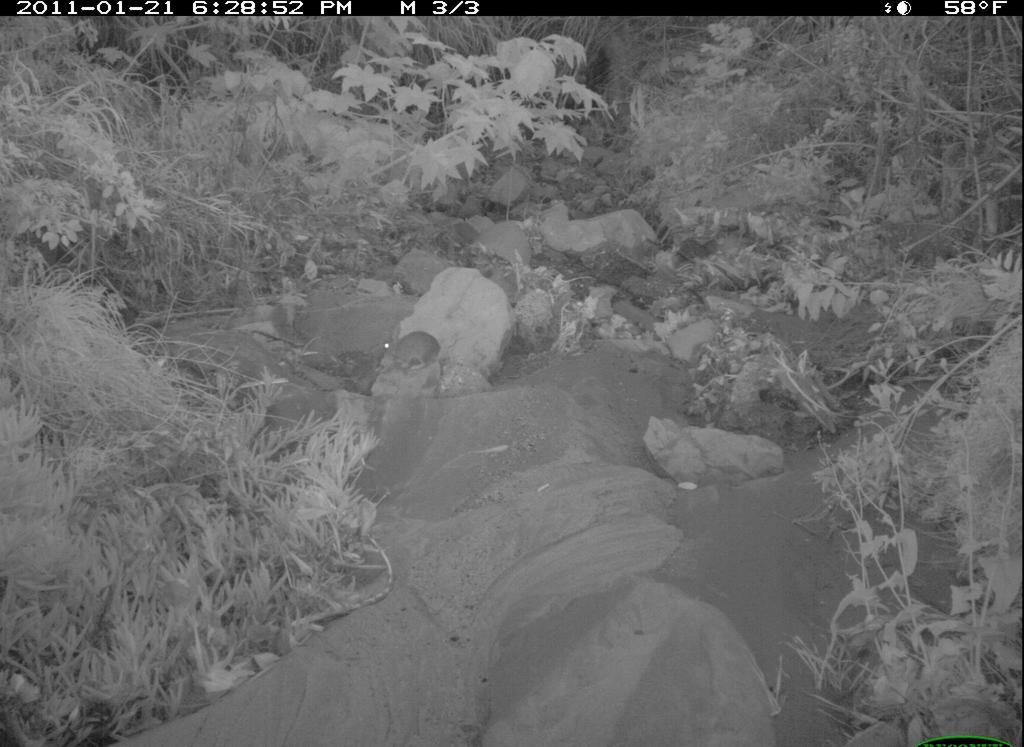rabbit: (373, 318, 452, 378)
